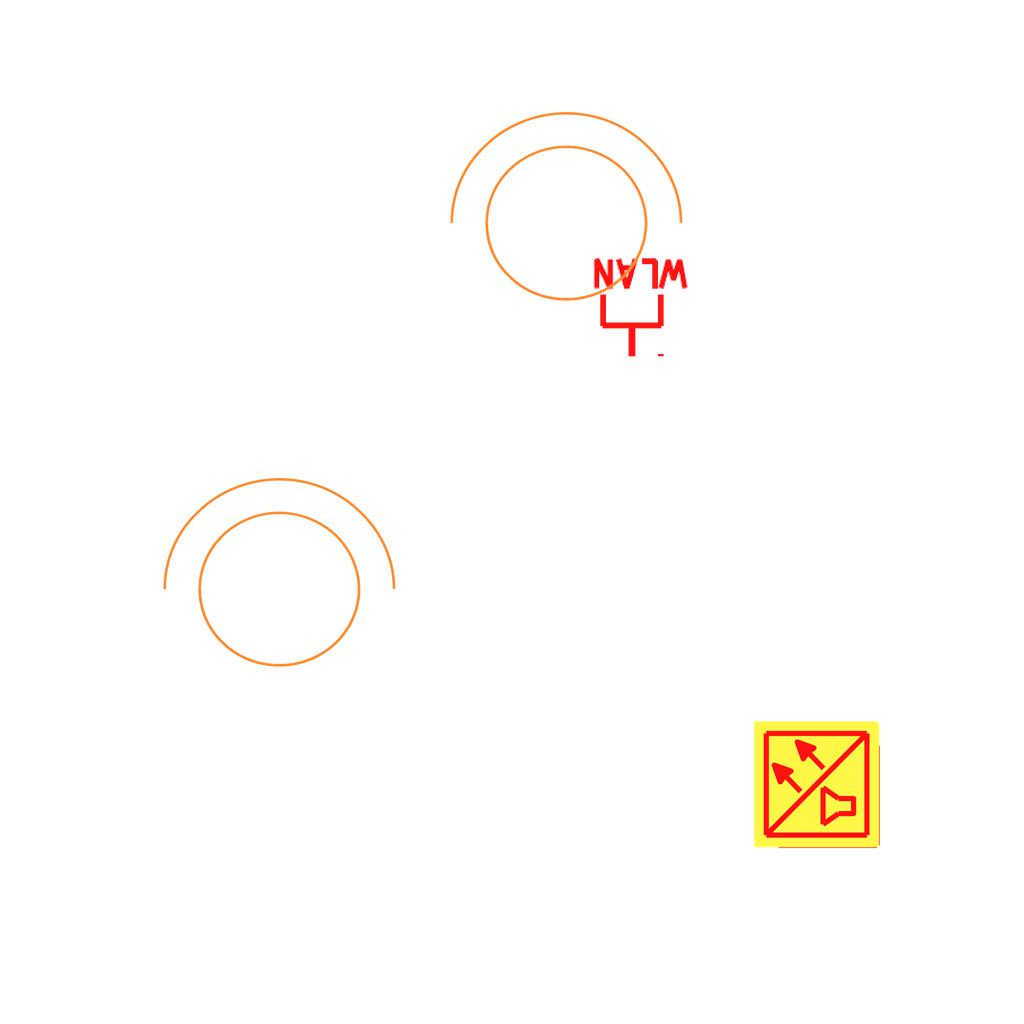OKW_Multisensormelder_(Kombination_optischer_Rauch-Kahlenmonoxid_Waerme-Melder): (751, 718, 883, 850)
Scheinwerfer_fuer_Alarmbeleuchtung: (141, 467, 405, 692), (428, 101, 692, 326)
WLAN: (589, 256, 693, 361)
